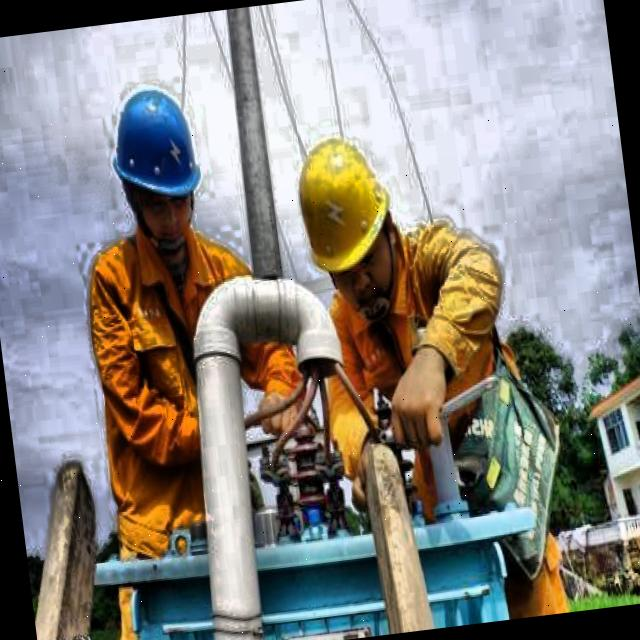helmet: (278, 108, 415, 332), (96, 61, 220, 267)
